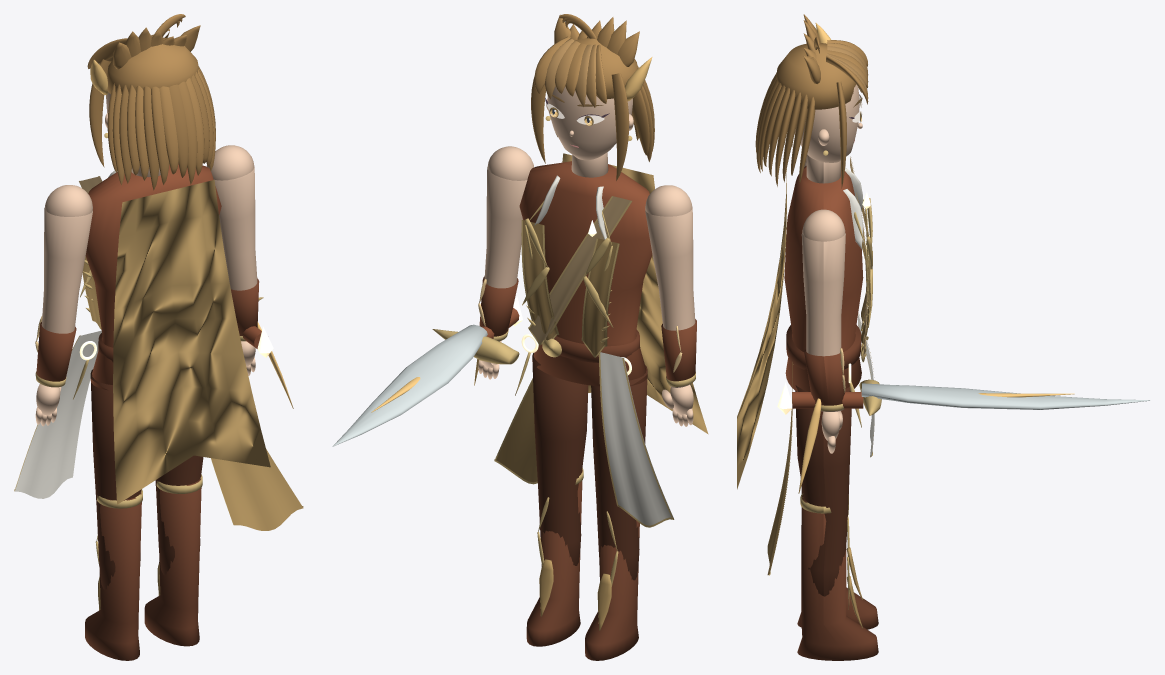
Rendered from character_16.glb.
3 renders of one model, left to right at view 1: azimuth 30°, elevation 25°; view 2: azimuth 150°, elevation 25°; view 3: azimuth 270°, elevation 25°, orthographic. The views are drawn at different scales.
Visible parts, largest first — view 1: _MeshInstance3D_4718, _MeshInstance3D_4753, _MeshInstance3D_4723, _MeshInstance3D_4700, _MeshInstance3D_4728, _MeshInstance3D_4720, _MeshInstance3D_4714, _MeshInstance3D_4731, _MeshInstance3D_4716, _MeshInstance3D_4754, _MeshInstance3D_4719, _MeshInstance3D_4755 (+6 smaller); view 2: _MeshInstance3D_4700, _MeshInstance3D_4727, _MeshInstance3D_4753, _MeshInstance3D_4723, _MeshInstance3D_4714, _MeshInstance3D_4731, _MeshInstance3D_4733, _MeshInstance3D_4719, _MeshInstance3D_4728, _MeshInstance3D_4720, _MeshInstance3D_4718, _MeshInstance3D_4740 (+17 smaller); view 3: _MeshInstance3D_4700, _MeshInstance3D_4753, _MeshInstance3D_4731, _MeshInstance3D_4727, _MeshInstance3D_4728, _MeshInstance3D_4733, _MeshInstance3D_4718, _MeshInstance3D_4740, _MeshInstance3D_4732, _MeshInstance3D_4754, _MeshInstance3D_4755, _MeshInstance3D_4734 (+7 smaller).
Boxes of the visible parts, x1=… form: _MeshInstance3D_4718: x1=113, y1=180, x2=270, y2=504; _MeshInstance3D_4753: x1=87, y1=14, x2=215, y2=185; _MeshInstance3D_4723: x1=35, y1=185, x2=92, y2=426; _MeshInstance3D_4700: x1=85, y1=163, x2=221, y2=390; _MeshInstance3D_4728: x1=144, y1=476, x2=201, y2=646; _MeshInstance3D_4720: x1=85, y1=492, x2=141, y2=660; _MeshInstance3D_4714: x1=15, y1=330, x2=101, y2=498; _MeshInstance3D_4731: x1=206, y1=145, x2=257, y2=375; _MeshInstance3D_4716: x1=211, y1=449, x2=303, y2=530; _MeshInstance3D_4754: x1=107, y1=69, x2=213, y2=184; _MeshInstance3D_4719: x1=90, y1=369, x2=141, y2=589; _MeshInstance3D_4755: x1=119, y1=67, x2=215, y2=190; _MeshInstance3D_4700: x1=519, y1=161, x2=652, y2=386; _MeshInstance3D_4727: x1=532, y1=353, x2=588, y2=565; _MeshInstance3D_4753: x1=531, y1=14, x2=653, y2=180; _MeshInstance3D_4723: x1=645, y1=185, x2=695, y2=426; _MeshInstance3D_4714: x1=600, y1=352, x2=674, y2=525; _MeshInstance3D_4731: x1=478, y1=146, x2=534, y2=379; _MeshInstance3D_4733: x1=332, y1=324, x2=487, y2=446; _MeshInstance3D_4719: x1=591, y1=365, x2=647, y2=580; _MeshInstance3D_4728: x1=526, y1=470, x2=582, y2=646; _MeshInstance3D_4720: x1=585, y1=521, x2=639, y2=660; _MeshInstance3D_4718: x1=562, y1=153, x2=708, y2=434; _MeshInstance3D_4740: x1=546, y1=86, x2=633, y2=160; _MeshInstance3D_4700: x1=784, y1=166, x2=863, y2=391; _MeshInstance3D_4753: x1=758, y1=14, x2=868, y2=188; _MeshInstance3D_4731: x1=801, y1=209, x2=845, y2=453; _MeshInstance3D_4727: x1=795, y1=385, x2=851, y2=596; _MeshInstance3D_4728: x1=797, y1=494, x2=878, y2=660; _MeshInstance3D_4733: x1=861, y1=383, x2=1150, y2=409; _MeshInstance3D_4718: x1=737, y1=169, x2=786, y2=489; _MeshInstance3D_4740: x1=794, y1=84, x2=862, y2=162; _MeshInstance3D_4732: x1=804, y1=349, x2=844, y2=405; _MeshInstance3D_4754: x1=756, y1=79, x2=807, y2=176; _MeshInstance3D_4755: x1=755, y1=75, x2=801, y2=182; _MeshInstance3D_4734: x1=798, y1=393, x2=1074, y2=493.
Size of the model in its own units: 1.07 by 2.57 by 1.58.
